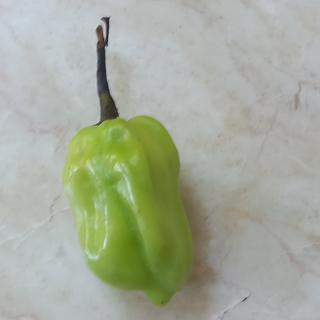Grade-A: (53, 110, 199, 308)
